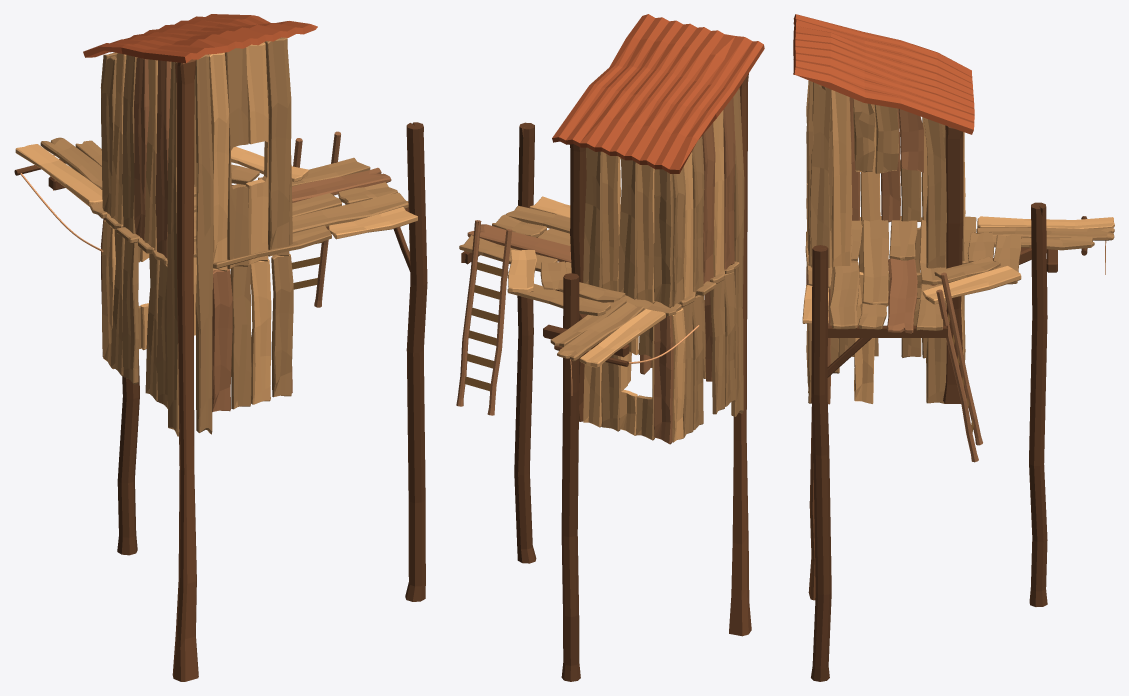
Rendered from SeaShack.fbx.
3 views of the same model, side by side, from view 1: azimuth 30°, elevation 25°; view 2: azimuth 150°, elevation 25°; view 3: azimuth 270°, elevation 25° (orthographic). The views are drawn at different scales.
Parts seen in each view (by area): view 1: Cube.096, Cylinder.011, Cube.157, Roof.001, Cube.146, Cube.145, Cube.144, Cube.156, Cube.147, Cylinder.013, Cube.127, Cube.125 (+24 smaller); view 2: Roof.001, Cylinder.013, Cylinder.011, Cube.096, Merdiven.001, Cube.156, Cube.143, Cube.142, Cube.155, Cube.154, Cube.141, Cube.123 (+31 smaller); view 3: Roof.001, Cylinder.011, Cylinder.013, Cube.138, Cube.095, Cube.137, Cube.140, Merdiven.001, Cube.101, Cube.100, Cube.104, Cube.135 (+24 smaller).
Part boxes in pixels (<box>): Cube.096: <box>172,59,198,681</box>; Cylinder.011: <box>405,122,427,601</box>; Cube.157: <box>195,54,213,434</box>; Roof.001: <box>83,14,317,63</box>; Cube.146: <box>265,37,291,256</box>; Cube.145: <box>246,42,268,264</box>; Cube.144: <box>225,47,248,269</box>; Cube.156: <box>166,61,179,436</box>; Cube.147: <box>208,52,229,271</box>; Cylinder.013: <box>117,359,139,555</box>; Cube.127: <box>271,254,293,397</box>; Cube.125: <box>230,264,251,409</box>; Roof.001: <box>552,14,764,173</box>; Cylinder.013: <box>561,273,580,681</box>; Cylinder.011: <box>514,122,536,563</box>; Cube.096: <box>729,73,751,636</box>; Merdiven.001: <box>456,220,512,415</box>; Cube.156: <box>731,88,744,416</box>; Cube.143: <box>654,169,673,307</box>; Cube.142: <box>601,152,620,291</box>; Cube.155: <box>636,164,655,303</box>; Cube.154: <box>618,158,637,299</box>; Cube.141: <box>583,147,602,287</box>; Cube.123: <box>654,315,673,444</box>; Roof.001: <box>793,14,974,134</box>; Cylinder.011: <box>811,245,831,681</box>; Cylinder.013: <box>1029,202,1047,606</box>; Cube.138: <box>831,90,852,267</box>; Cube.095: <box>943,125,963,403</box>; Cube.137: <box>810,82,831,267</box>; Cube.140: <box>924,118,946,268</box>; Merdiven.001: <box>936,272,982,462</box>; Cube.101: <box>862,216,888,306</box>; Cube.100: <box>887,258,917,333</box>; Cube.104: <box>829,260,859,329</box>; Cube.135: <box>874,105,899,173</box>.
Size of the model in its own units: 614 by 1390 by 700.
